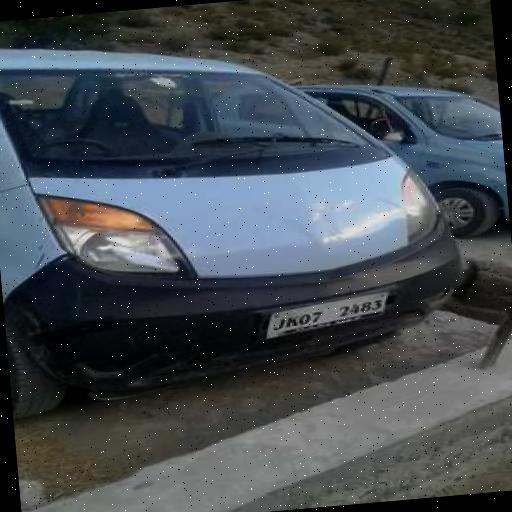license_plate`: (260, 290, 387, 340)
